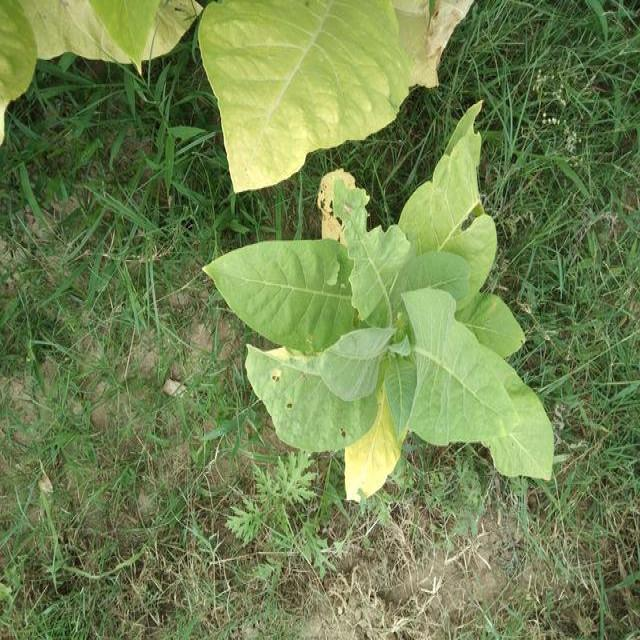crop: (201, 108, 558, 497)
